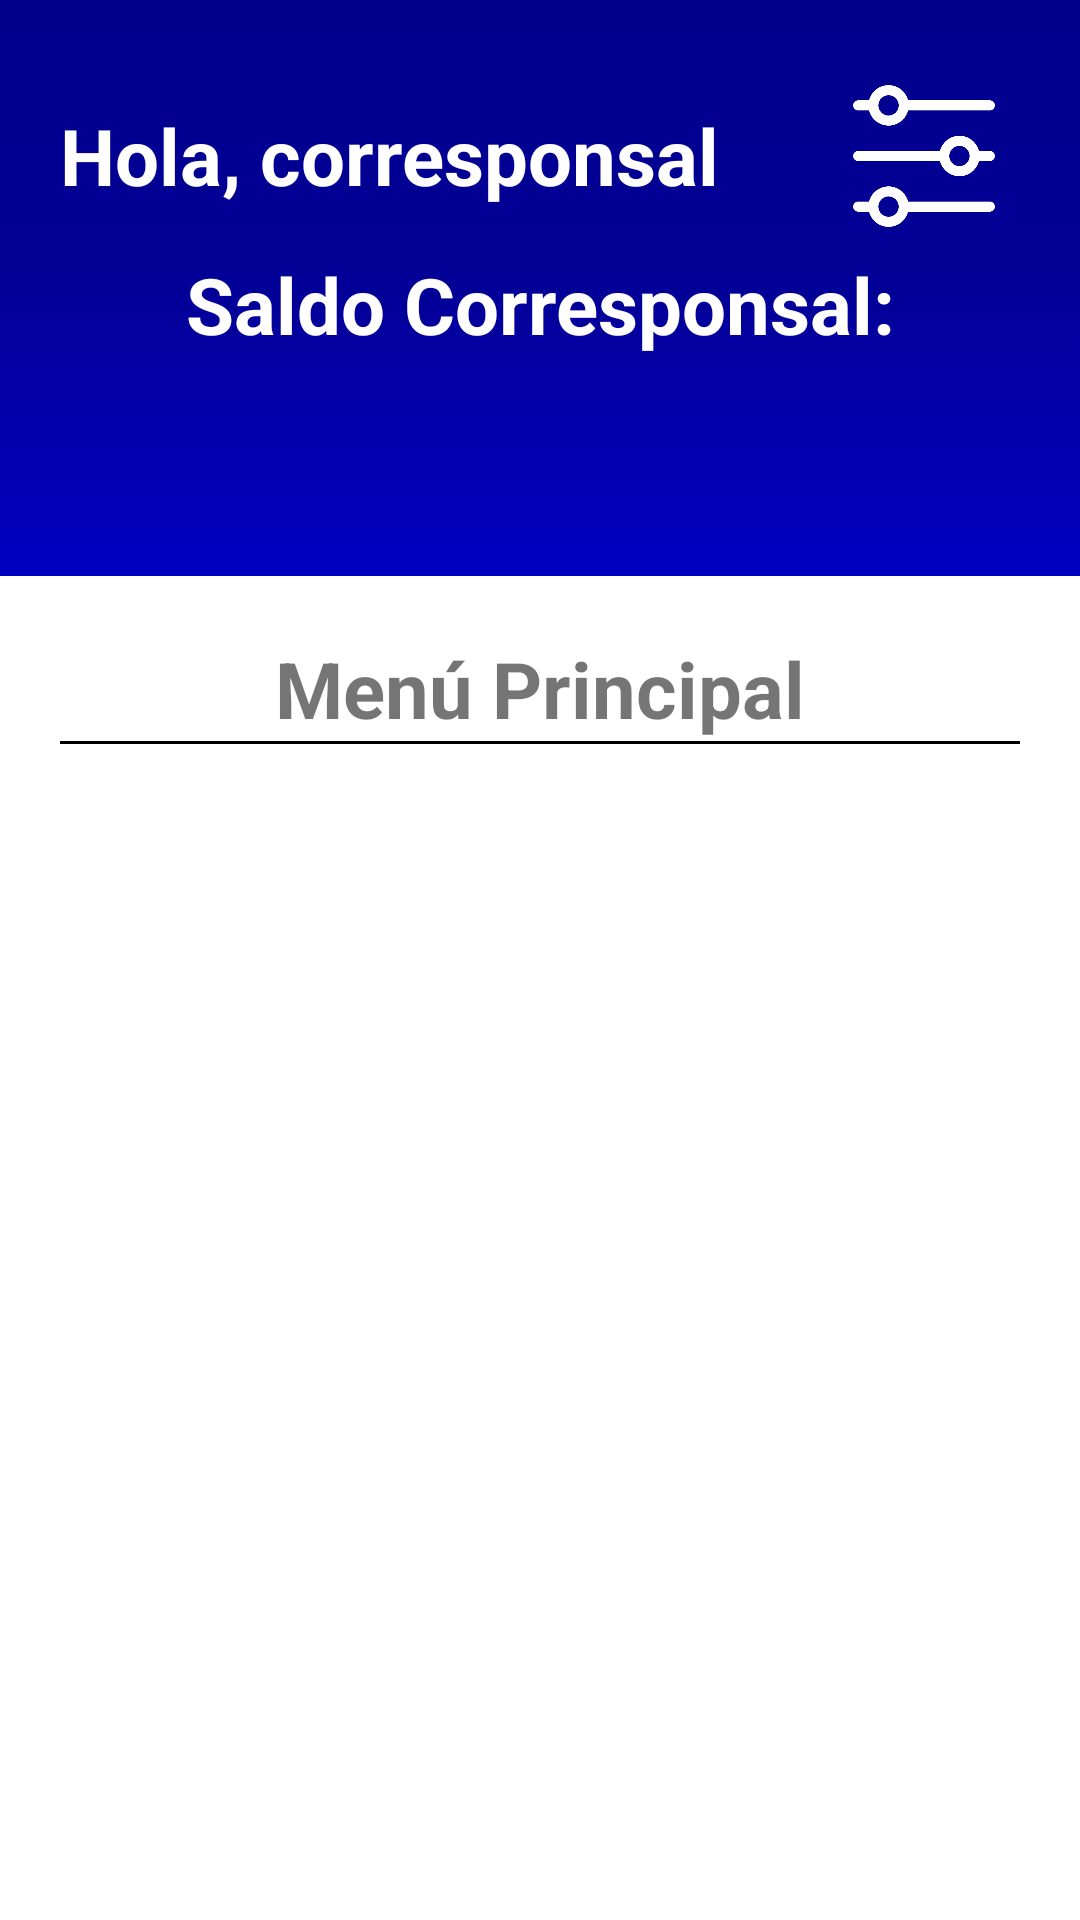

Locate icon controls on the screen. Image size 1080px x 1920px, boxes as [x1,y1,x2,y2].
Opciones: [853,85,995,227]
